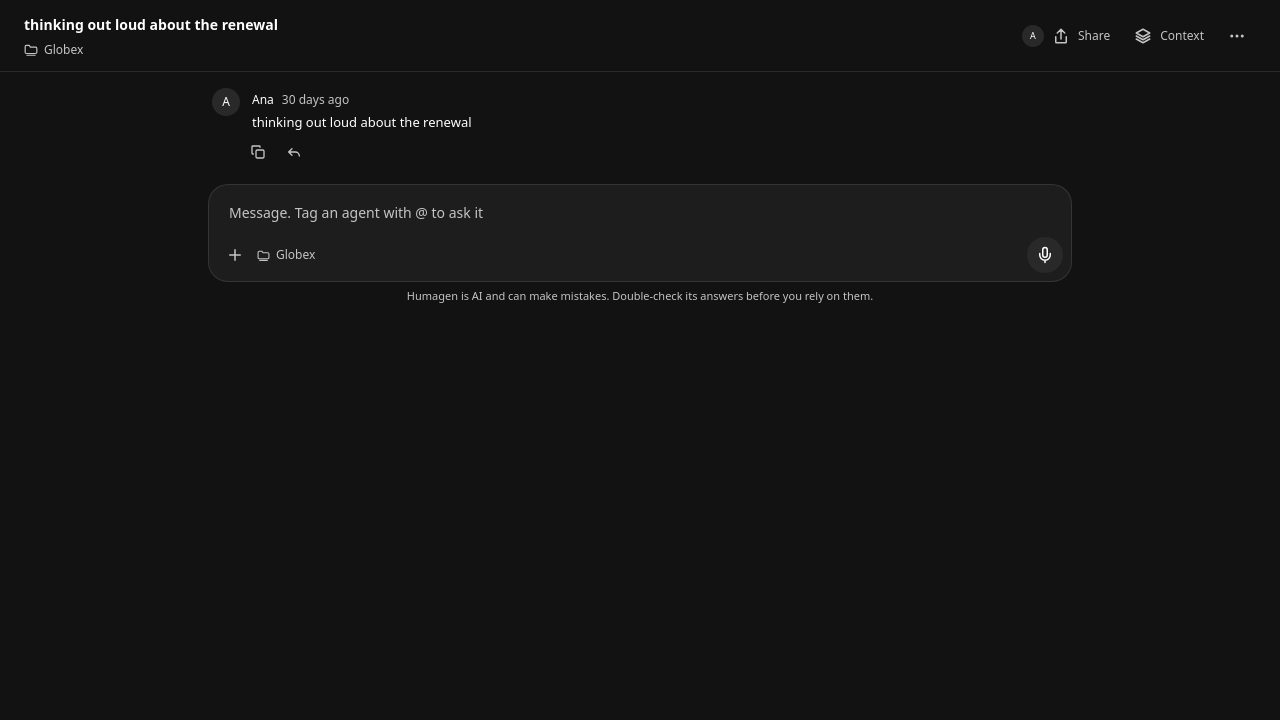
Test: Share at the top of a private conversation moves it into a project's channel and adds people, then shows it shared
The image size is (1280, 720).
Check: the heading "thinking out loud about the renewal" is shown, box [24,14,278,34]
Check: the header is shown, box [0,0,1279,72]
Click the button "A Share": [1066, 36] box [1012,18,1120,54]
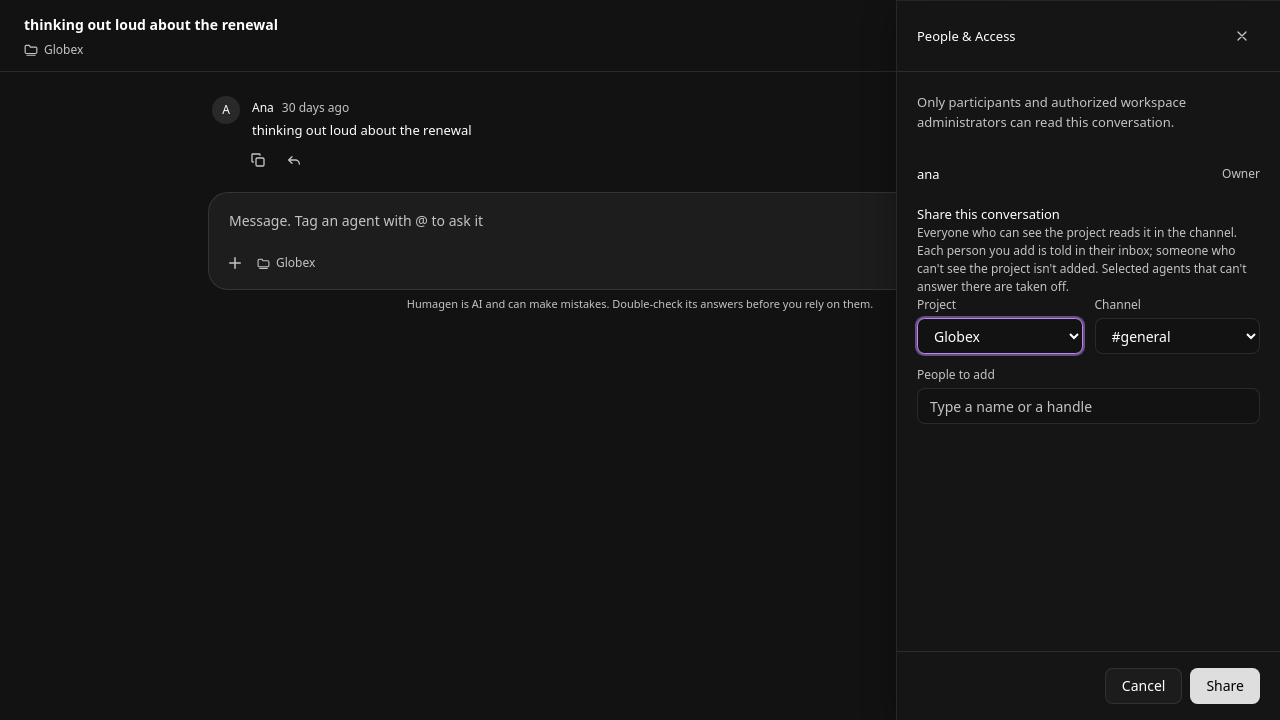
Check: the 1st text "Globex" is shown, box [44,40,83,58]
Select "Initech" in the dropdown labelled "Project": [1000, 336] box [917,318,1082,354]
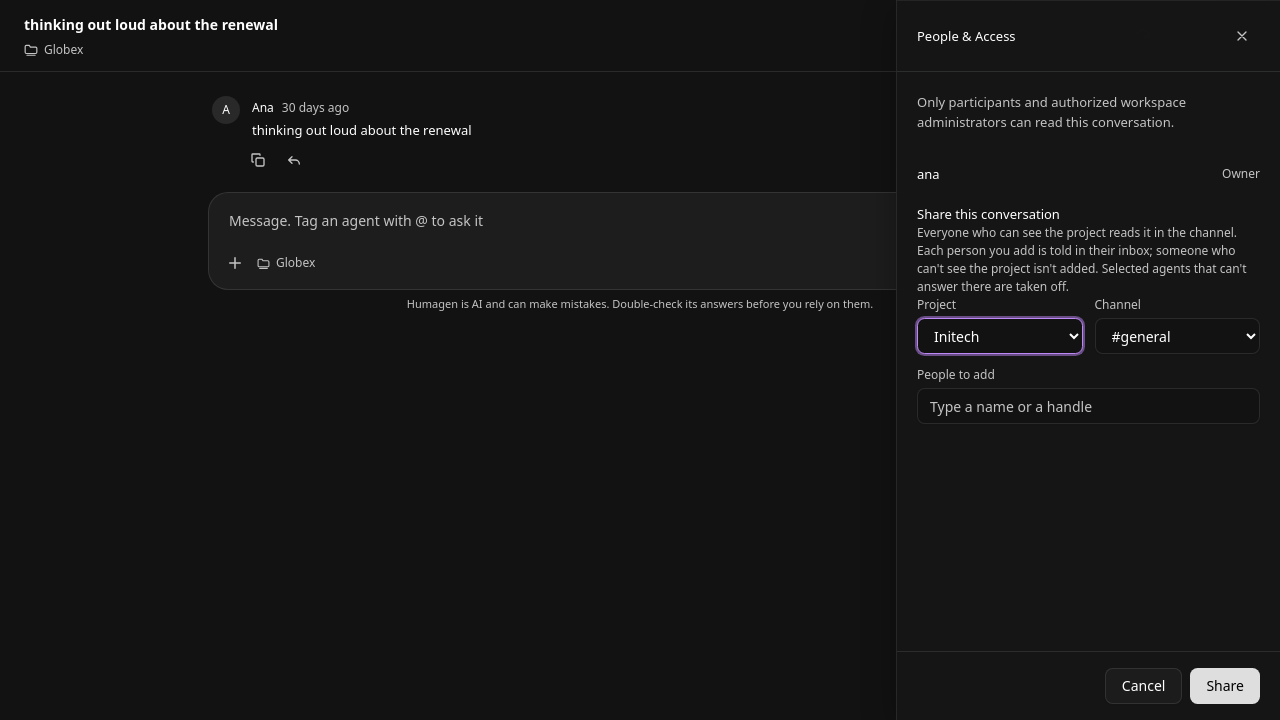
# People are completed as they are typed, never the person sharing.
In the dropdown named "People to add": [1088, 406] box [917,388,1260,424], type "a"
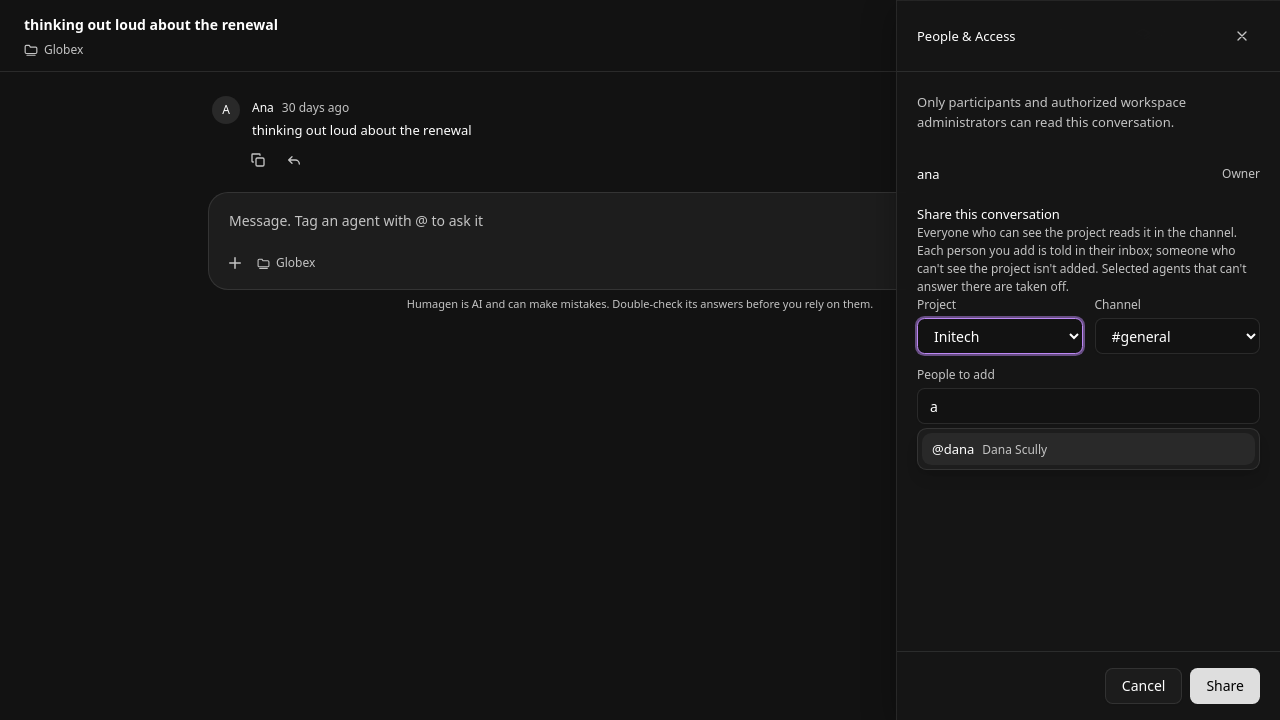
Press Tab in the dropdown named "People to add", box [917,388,1260,424]
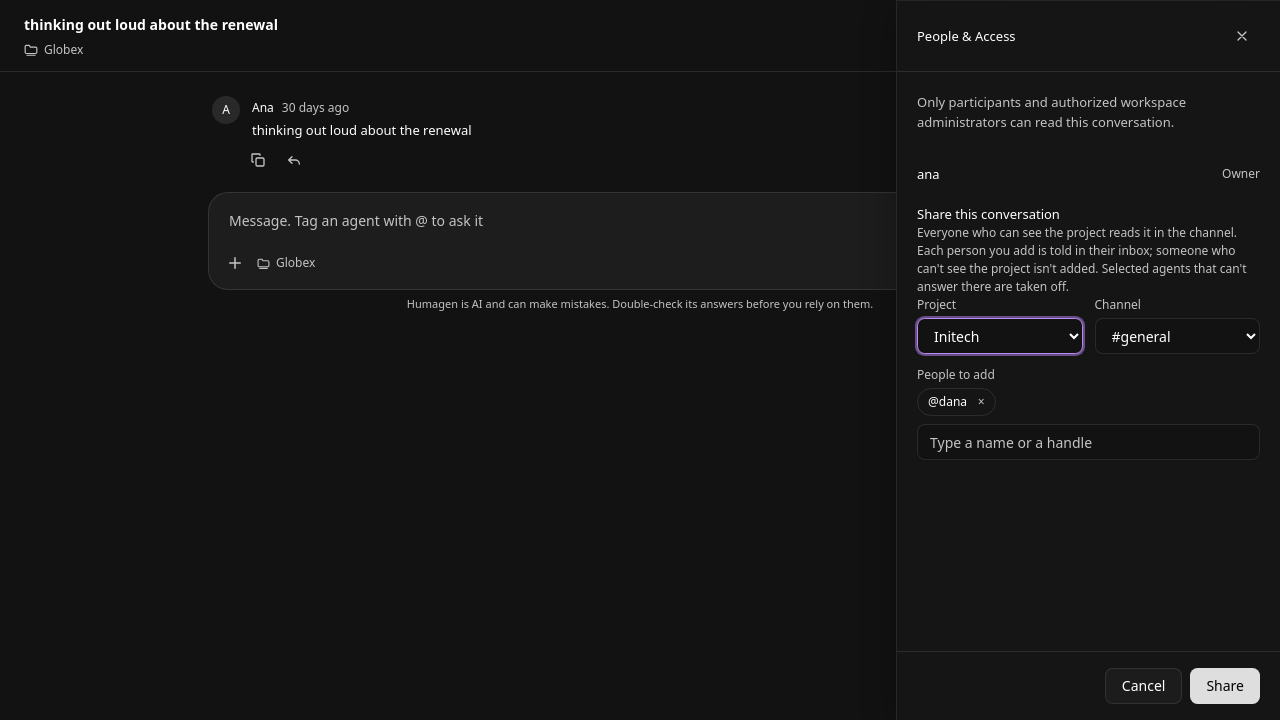
Click the button "Share": [1225, 686] box [1190,668,1260,704]
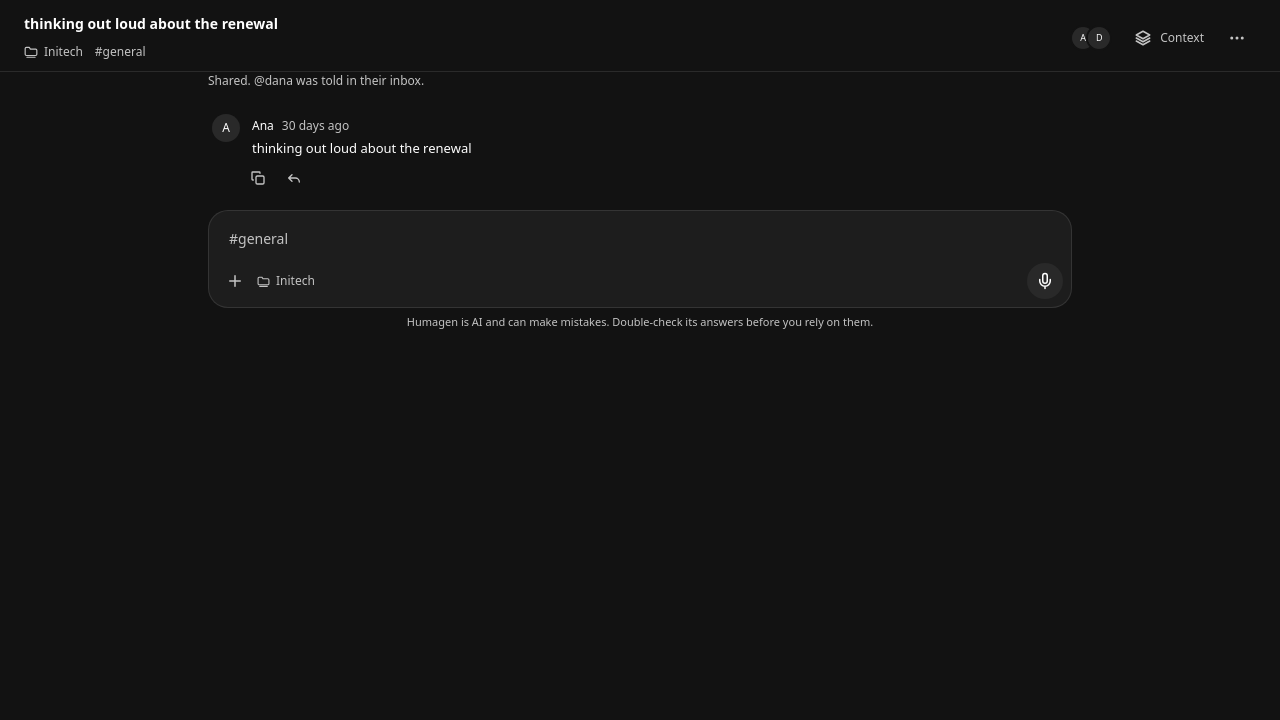
Check: the dialog is gone
Check: the text "Shared. @dana was told in their inbox." is shown, box [208,72,424,89]
